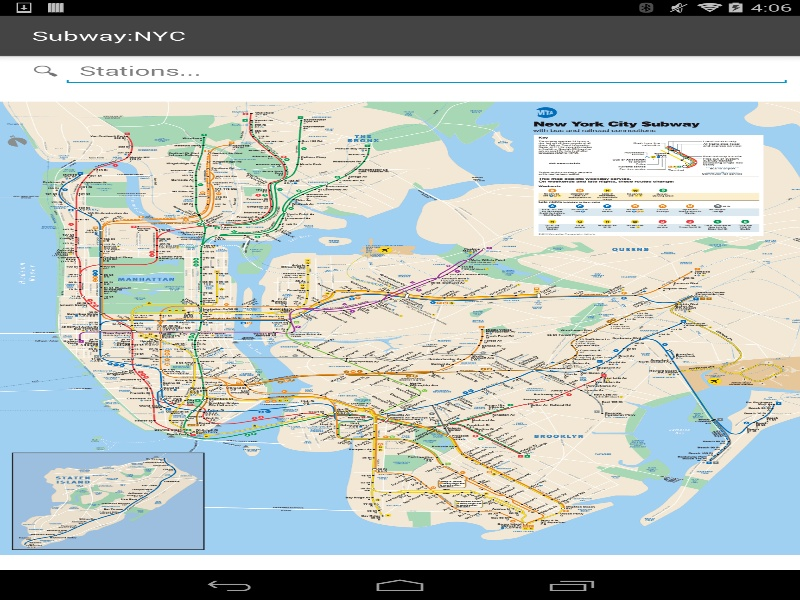Input: (68, 59, 784, 81)
